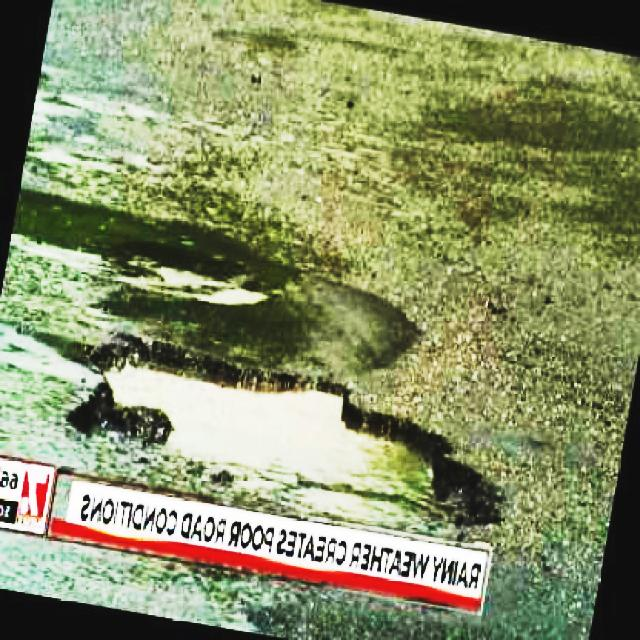pothole: (65, 326, 508, 557)
